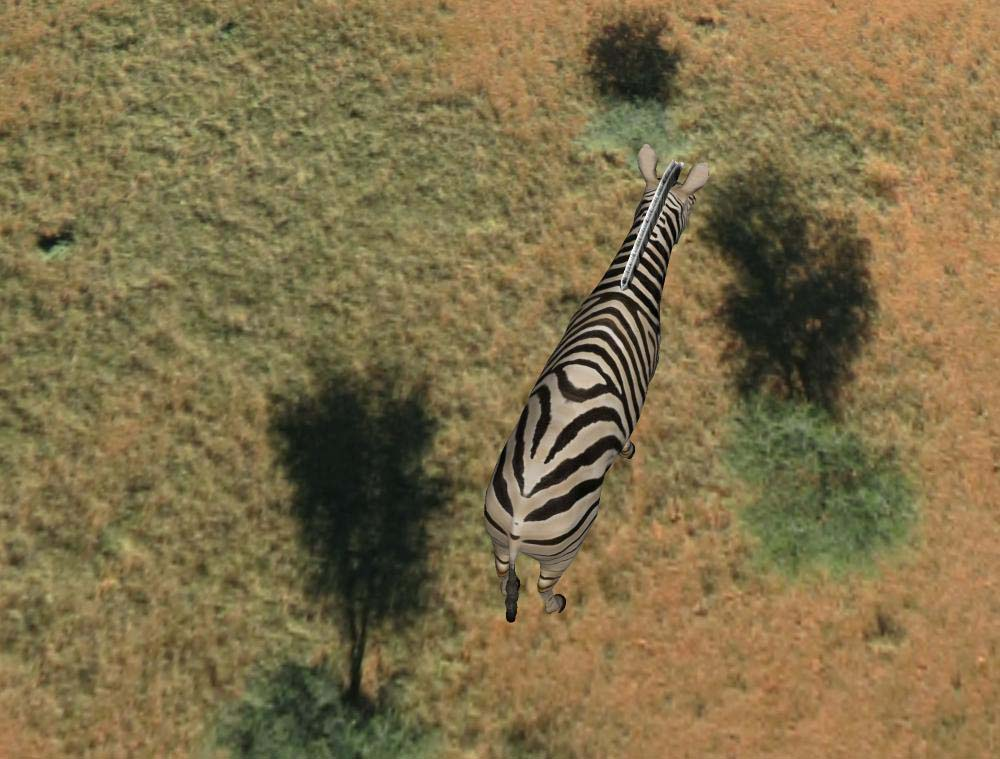zebra: (480, 150, 709, 623)
